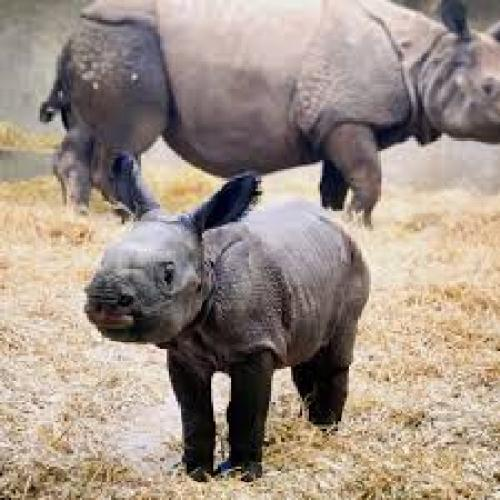rhino-endangered: (71, 148, 377, 487), (34, 2, 500, 224)
